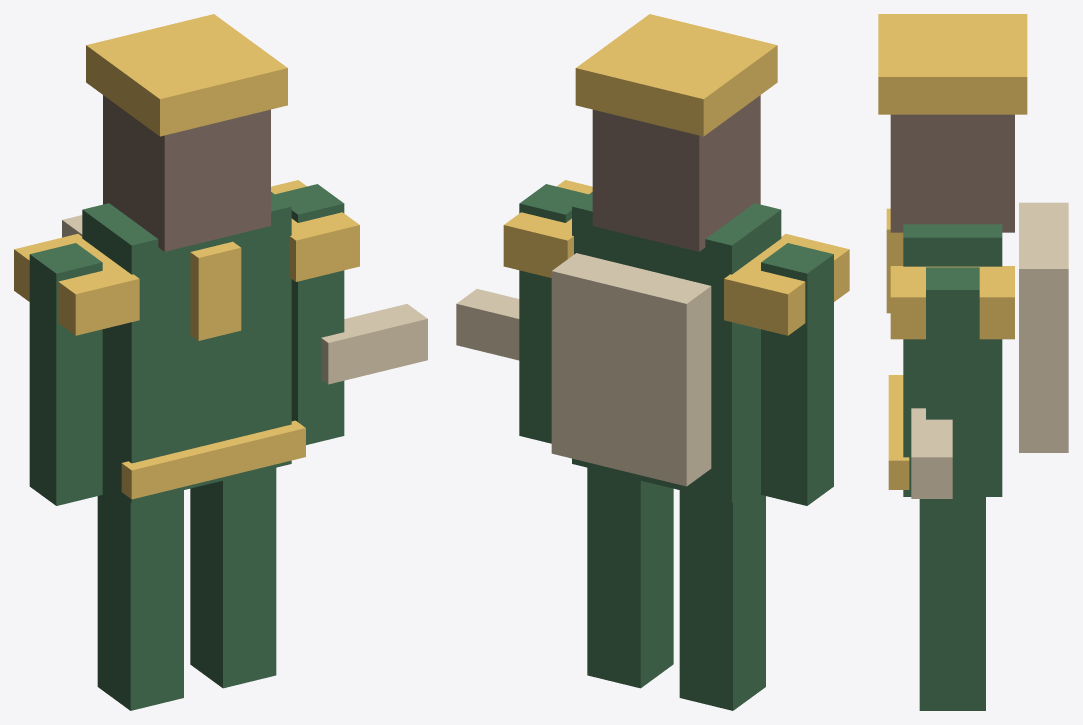
Rendered from 02_orin_tideforged_diver_near_trainers.glb.
3 views of the same model, side by side, from view 1: azimuth 30°, elevation 25°; view 2: azimuth 150°, elevation 25°; view 3: azimuth 270°, elevation 25° (orthographic).
Visible parts, largest first — view 1: Orin Tideforged, Diver near Trainer's; view 2: Orin Tideforged, Diver near Trainer's; view 3: Orin Tideforged, Diver near Trainer's.
Boxes of the visible parts, x1,y1,x2,y2 form: Orin Tideforged, Diver near Trainer's: (14,14,427,710); Orin Tideforged, Diver near Trainer's: (456,14,849,710); Orin Tideforged, Diver near Trainer's: (878,14,1068,710).
Bounding box in the file's own units: 0.9702 × 1.59 × 0.4354.
